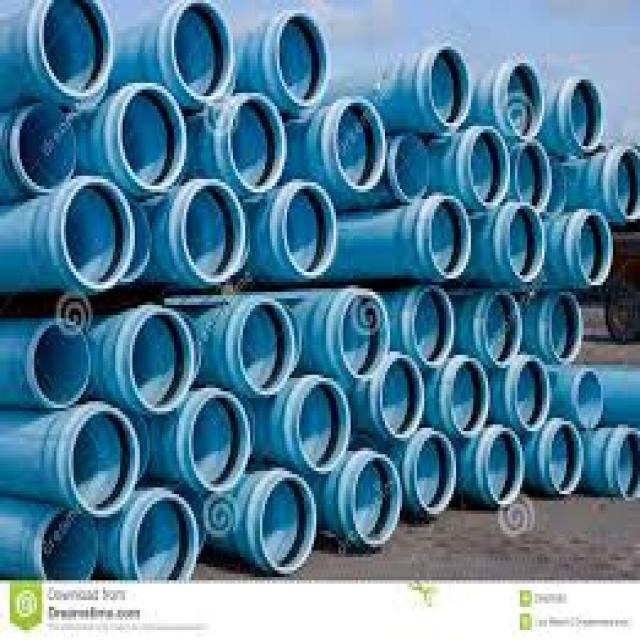pipe: (64, 181, 132, 287), (71, 409, 137, 515), (120, 85, 184, 192), (40, 0, 111, 94), (132, 309, 193, 410), (174, 2, 234, 98), (184, 185, 244, 279), (191, 397, 252, 489), (134, 496, 197, 584), (228, 98, 286, 193), (260, 477, 316, 574), (241, 300, 294, 394), (298, 380, 351, 472), (34, 319, 89, 407), (18, 108, 77, 189), (277, 12, 329, 103), (285, 185, 335, 273), (341, 294, 389, 379), (338, 102, 384, 189), (352, 460, 400, 543), (43, 510, 98, 580), (382, 359, 423, 432), (431, 48, 470, 124), (506, 61, 544, 139), (416, 436, 455, 511), (431, 201, 470, 275), (470, 130, 509, 200), (414, 291, 452, 361), (450, 362, 488, 431), (486, 295, 522, 359), (488, 437, 522, 504), (578, 216, 611, 284), (511, 207, 545, 272), (393, 135, 428, 198), (549, 426, 583, 490), (517, 363, 549, 430), (516, 144, 550, 207), (571, 79, 601, 145), (550, 296, 581, 359), (576, 371, 604, 430), (617, 434, 640, 500), (618, 150, 640, 216)
